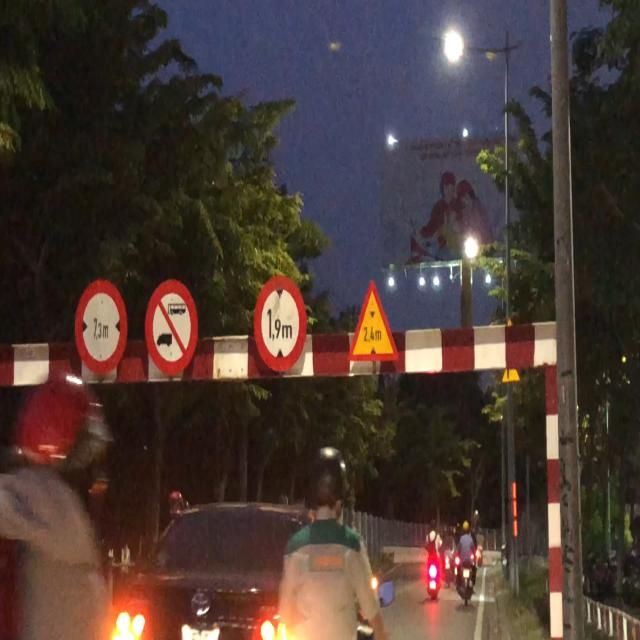Bien bao cam xe oto khach va xe oto tai: (142, 273, 202, 382)
Bien bao chieu cao tinh khong thuc te: (343, 271, 402, 370)
Bien bao han che chieu cao: (250, 264, 314, 381)
